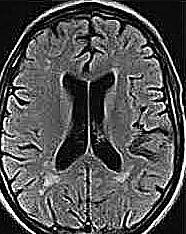Normal_Brain: (1, 1, 186, 234)
